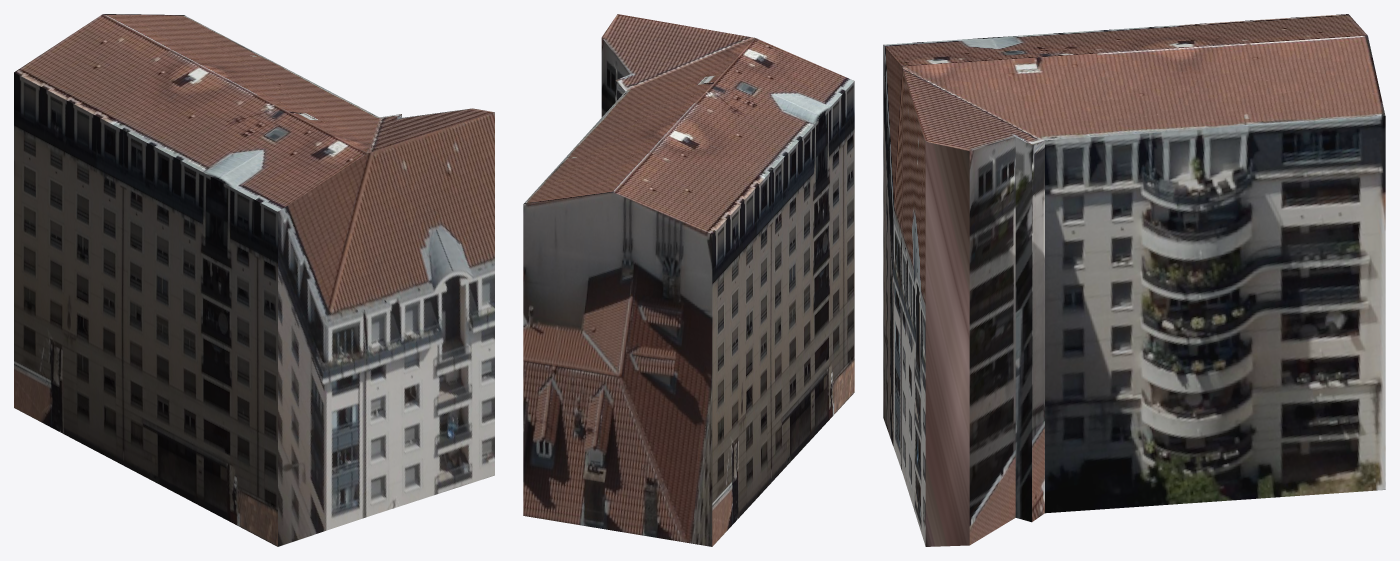
3 renders of one model, left to right at view 1: azimuth 30°, elevation 25°; view 2: azimuth 150°, elevation 25°; view 3: azimuth 270°, elevation 25°, orthographic. The views are drawn at different scales.
Parts seen in each view (by area): view 1: Z_UP; view 2: Z_UP; view 3: Z_UP.
Part boxes in pixels (x1,y1,x2,y2): Z_UP: (14,14,494,546); Z_UP: (523,14,854,546); Z_UP: (883,14,1385,546).
Bounding box in the file's own units: 21.25 × 25.34 × 28.41.
2 materials, 1 textured.
